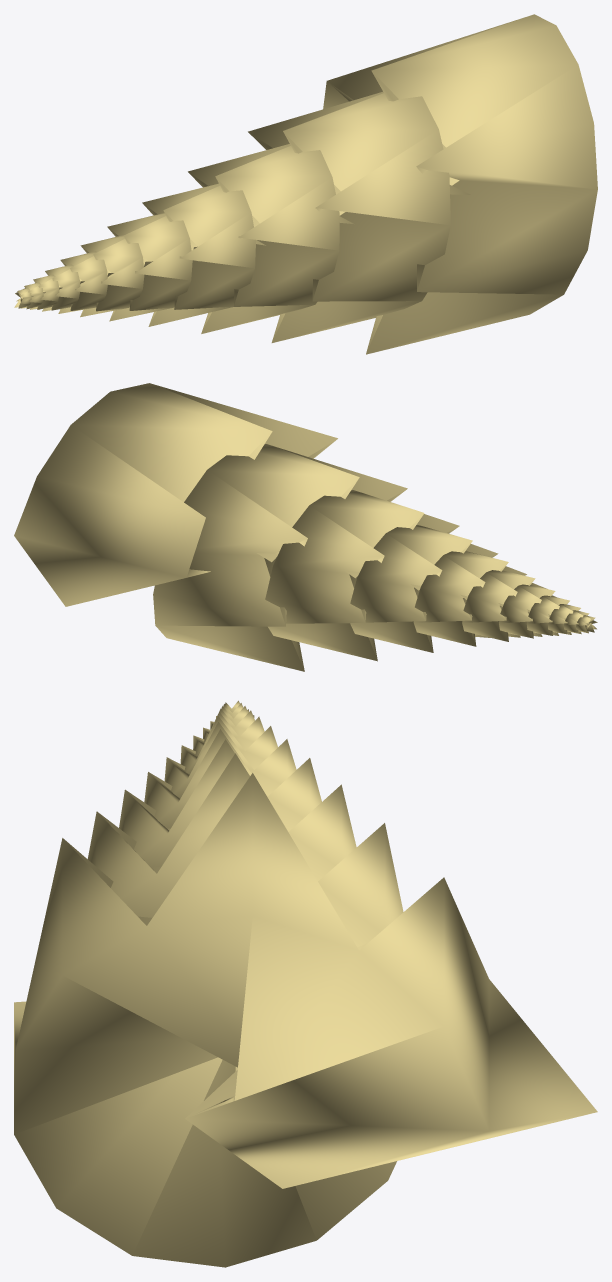
The model's file is SM_Seashell_01.fbx.
3 renders of one model, top to bottom at view 1: azimuth 30°, elevation 25°; view 2: azimuth 150°, elevation 25°; view 3: azimuth 270°, elevation 25°, orthographic. The views are drawn at different scales.
Visible parts, largest first — view 1: Circle; view 2: Circle; view 3: Circle.
Boxes of the visible parts, box(x1,y1,x2,y2) form: Circle: box(14, 14, 597, 354); Circle: box(14, 383, 597, 671); Circle: box(14, 700, 597, 1267).
Size of the model in its own units: 74.44 by 31.14 by 40.28.
